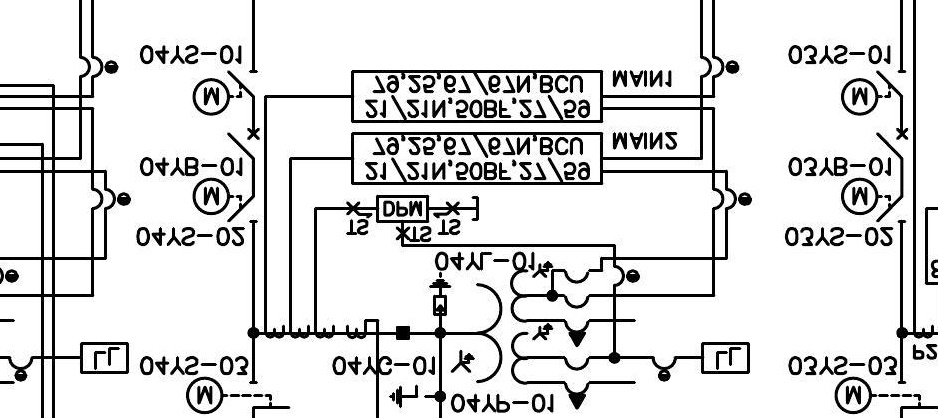115_1way_ds_w_motor: (184, 375, 291, 414), (840, 69, 907, 117), (191, 177, 258, 224), (191, 69, 258, 116), (840, 177, 907, 223)
115_breaker: (875, 127, 909, 159), (227, 127, 260, 159)
115_gs: (387, 384, 428, 409)
115_la: (428, 271, 452, 316)
115_vt_3p: (449, 260, 591, 411)
DPM: (375, 194, 429, 223)
LL: (79, 341, 129, 375), (700, 341, 750, 375)
